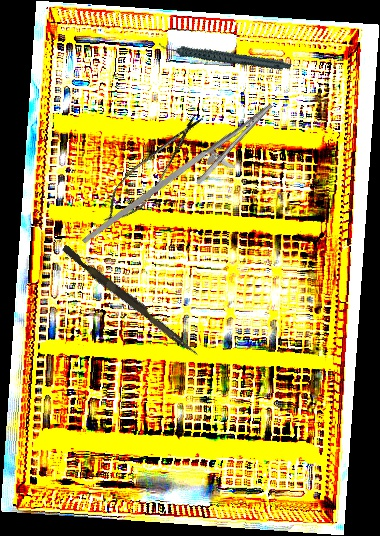Handpiece: (157, 14, 292, 97)
Micro Scissor: (94, 104, 211, 235)
Needle Holder: (80, 81, 287, 279)
Pusher: (58, 244, 204, 358)
